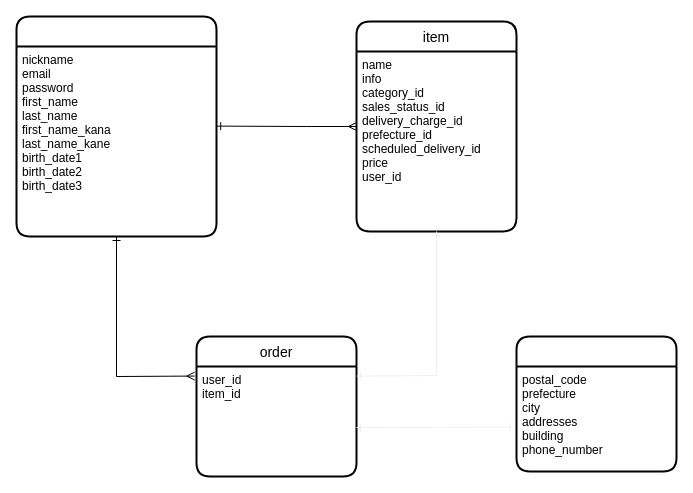
Image size: 693x493. Some labels were removed from this diagram. The box of each missing label's shape, as (x1, y1, x2, y2) in pixels:
pay_form: (515, 335, 677, 472)
user: (15, 15, 217, 237)
